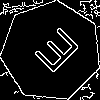E: (26, 26, 82, 82)
